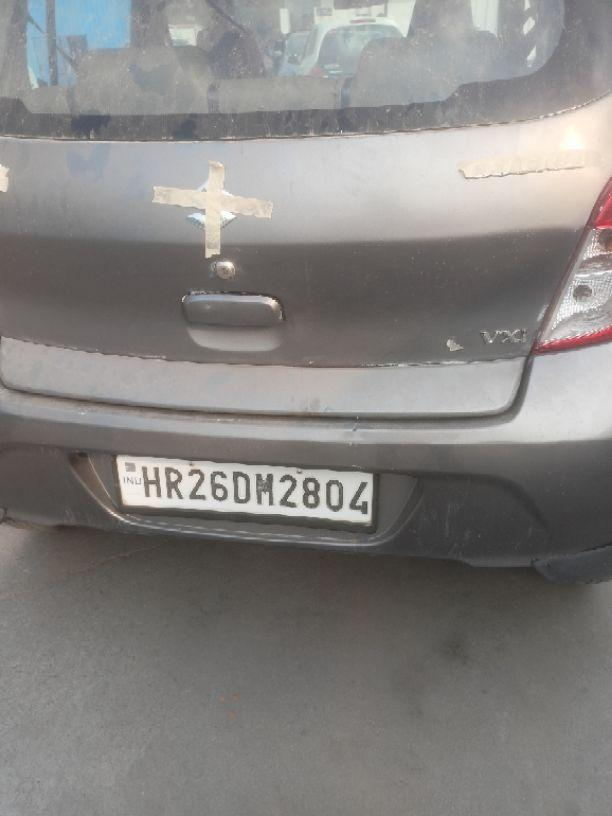license_plate: (112, 452, 379, 532)
